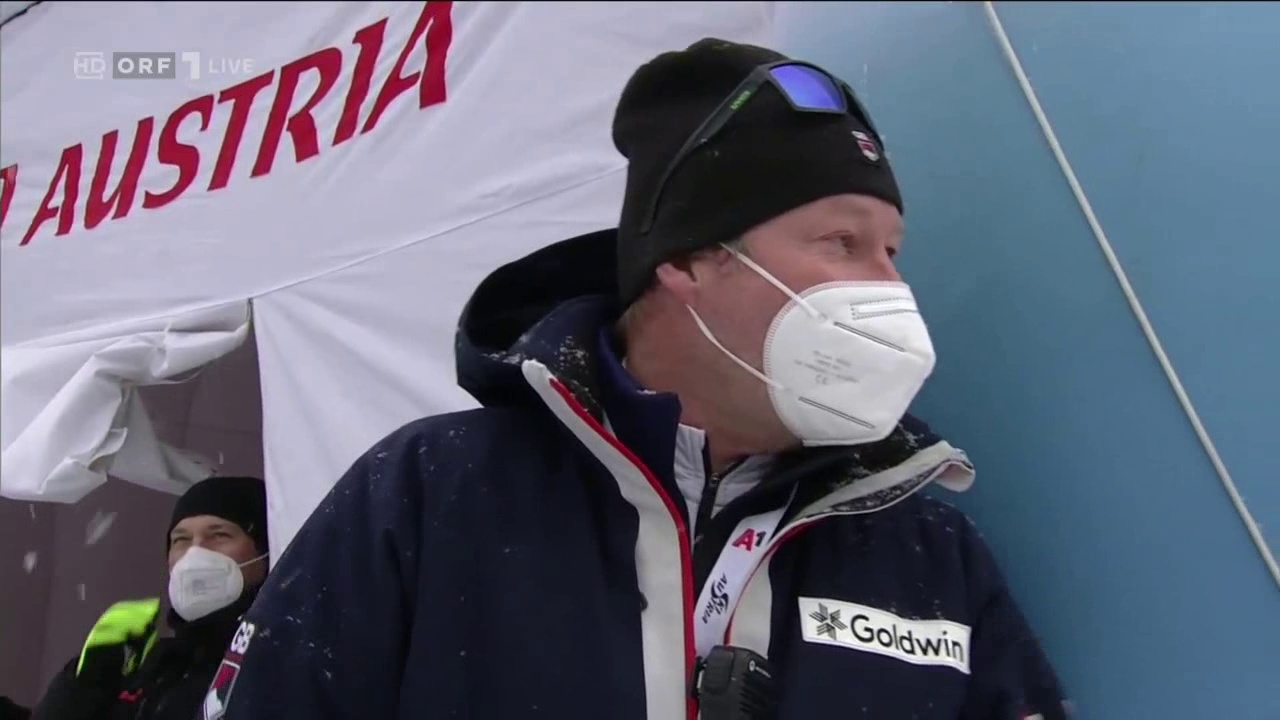a1: (734, 528, 772, 554)
